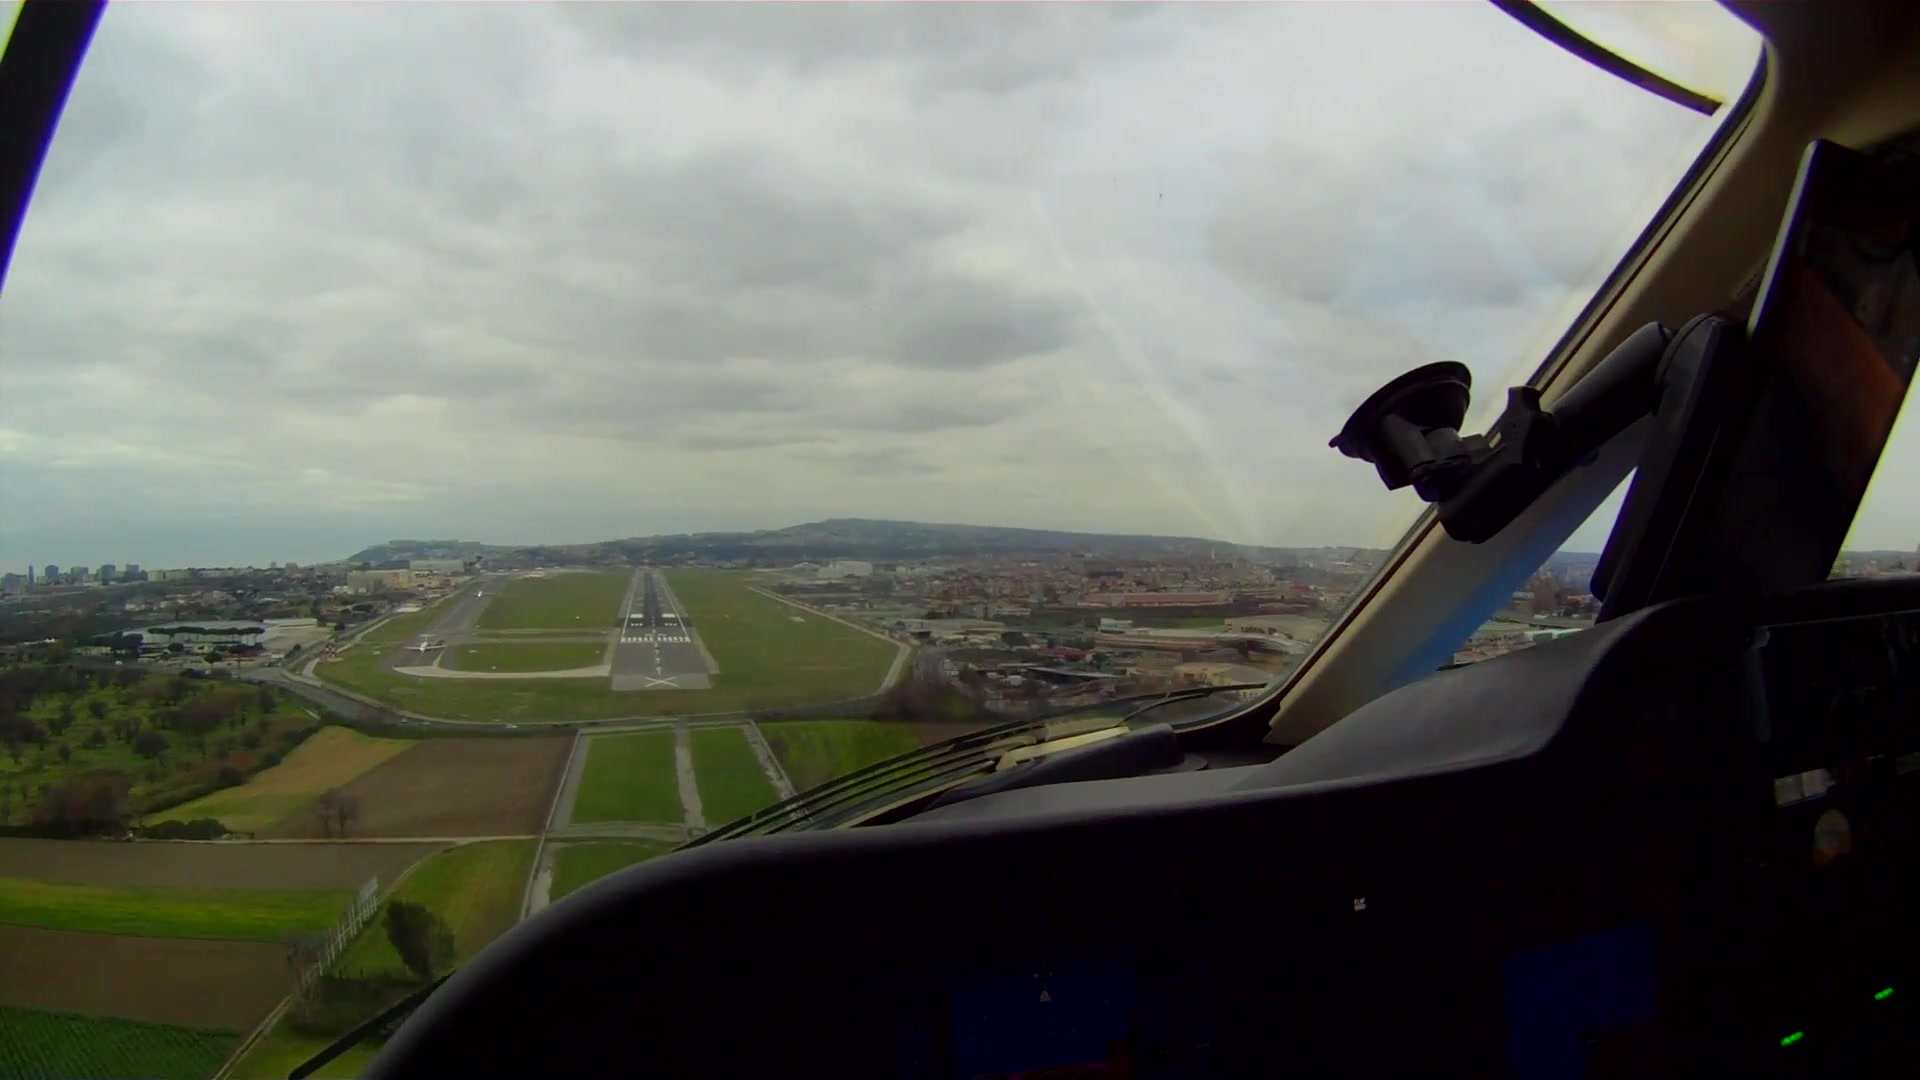entrance: (621, 632, 698, 649)
runway: (608, 562, 712, 690)
